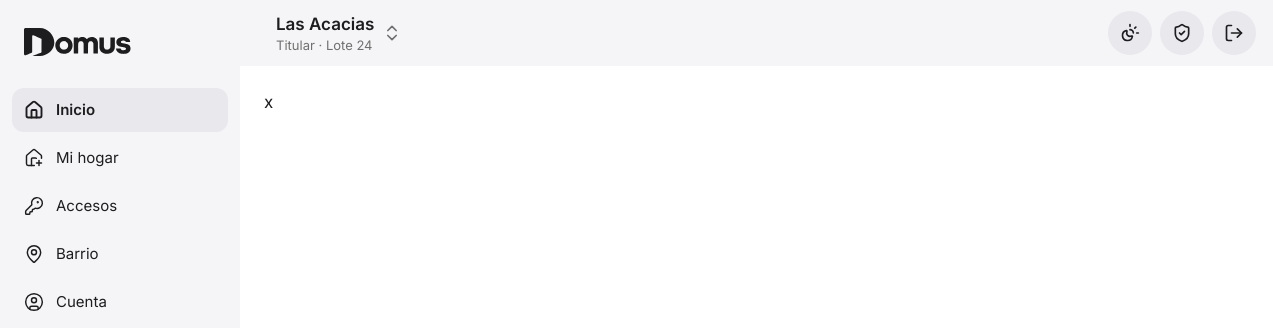
AppShell › opens the appearance menu with theme and gate controls
Click the button named "Apariencia".
click(1130, 33)  # box [1108,11,1152,55]
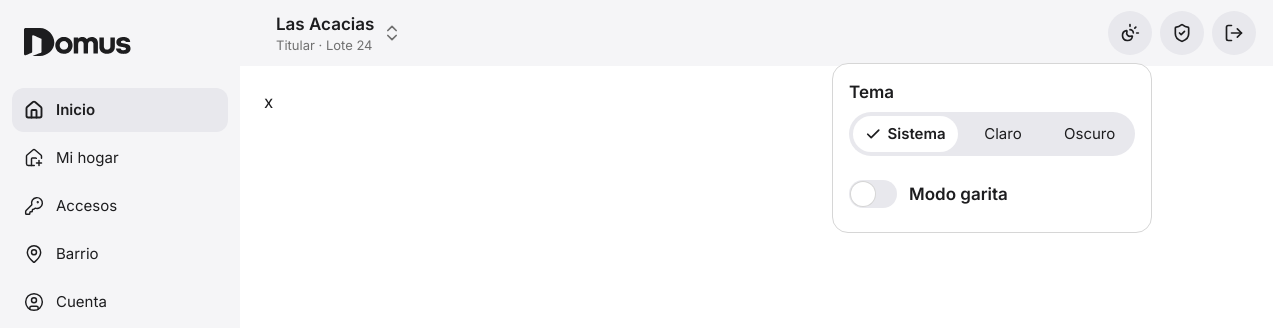
Check: the radio button labelled "Claro" is shown, box [984,124,1022,143]
Check: the switch labelled "Modo garita" is shown, box [849,180,1008,208]
